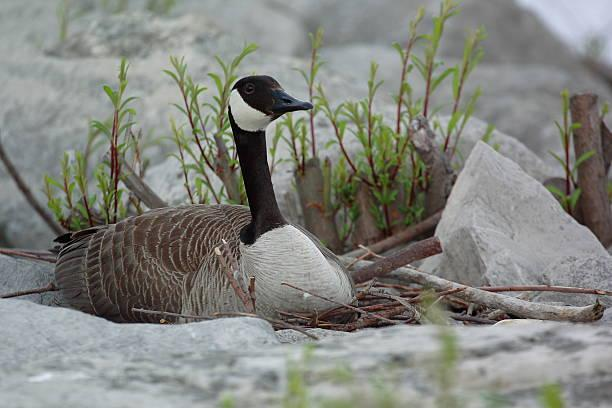Canadian-Goose: (45, 72, 356, 324)
